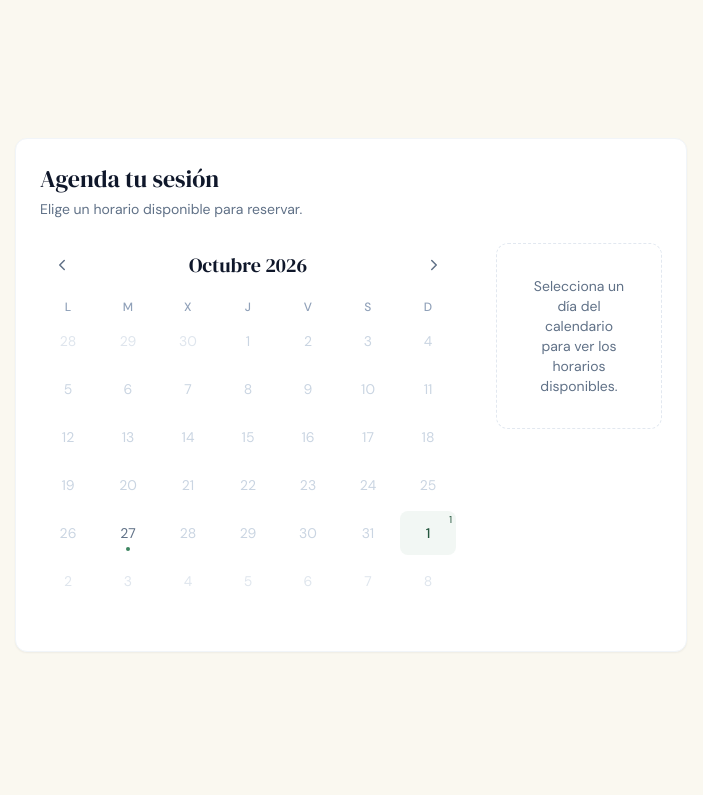
Test: PublicBookingPage — public-scheduling Req: Public Availability Read Endpoint › al cambiar de mes se reinicia el día y el horario seleccionados
The width and height of the screenshot is (703, 795).
Click the button "1 1": point(428, 533) [400,511,456,555]
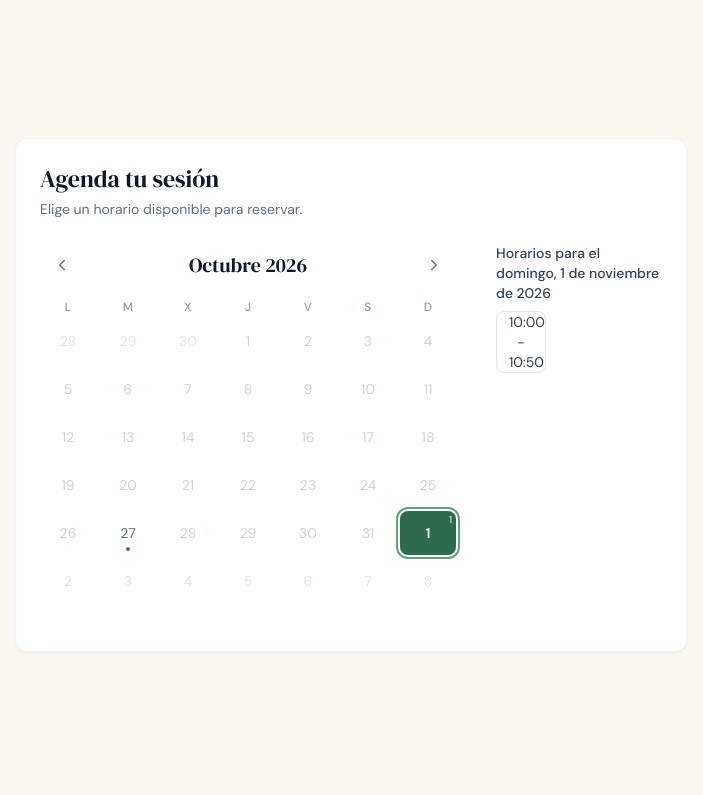
Click the button "10:00 - 10:50": point(521, 342) [496,311,546,373]
(page scrolled)
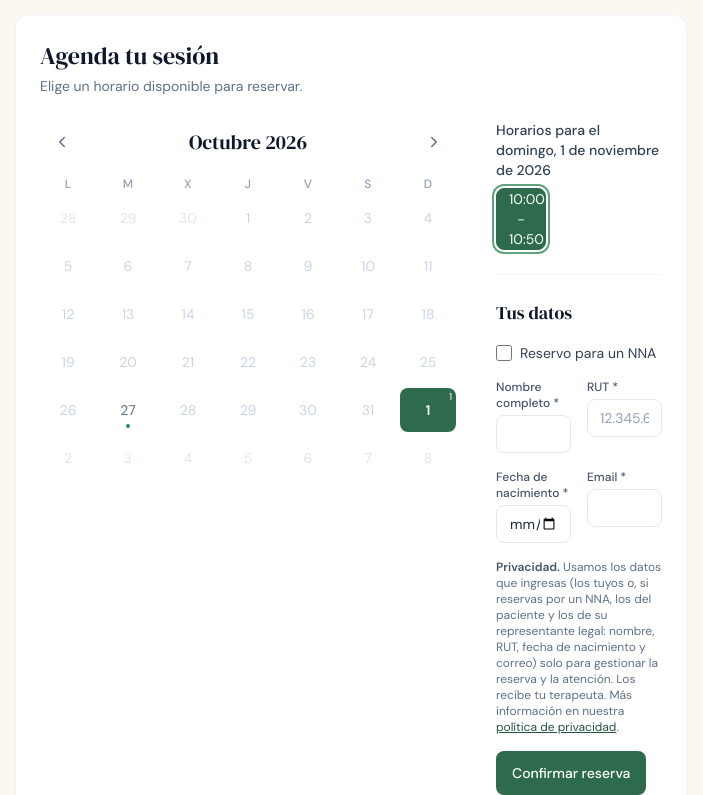
Result: the field labelled "Nombre completo *" is shown at [496,415,571,453]
Click the button named "Mes siguiente": point(434, 142) [412,120,456,164]
(page scrolled)
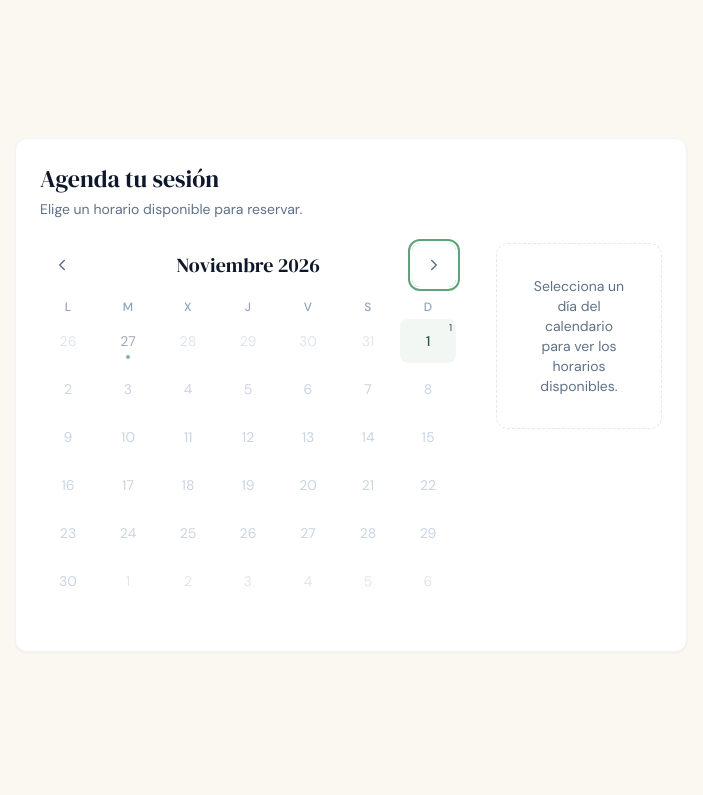
Result: the label labelled "Nombre completo" is gone
